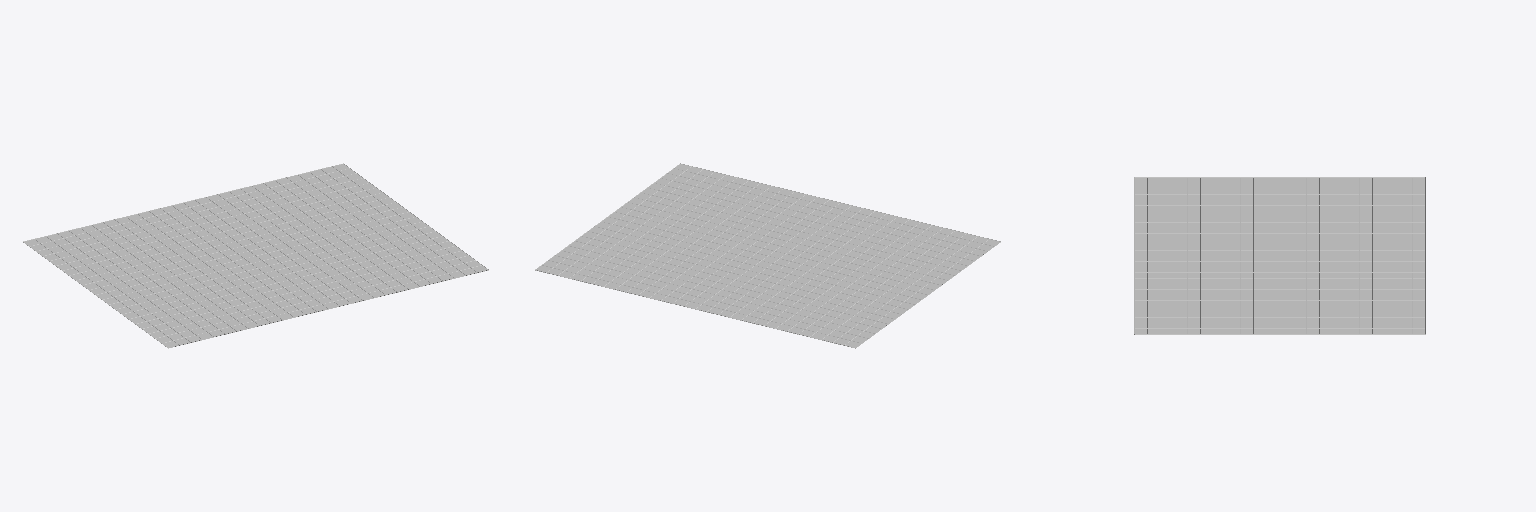
Rendered from Floor.obj.
3 renders of one model, left to right at view 1: azimuth 30°, elevation 25°; view 2: azimuth 150°, elevation 25°; view 3: azimuth 270°, elevation 25°, orthographic.
Parts seen in each view (by area): view 1: Grid; view 2: Grid; view 3: Grid.
Boxes of the visible parts, <box> form: Grid: <box>23,163,488,348</box>; Grid: <box>535,163,1000,348</box>; Grid: <box>1134,177,1425,334</box>.
Bounding box in the file's own units: 56 × 0.1 × 44.